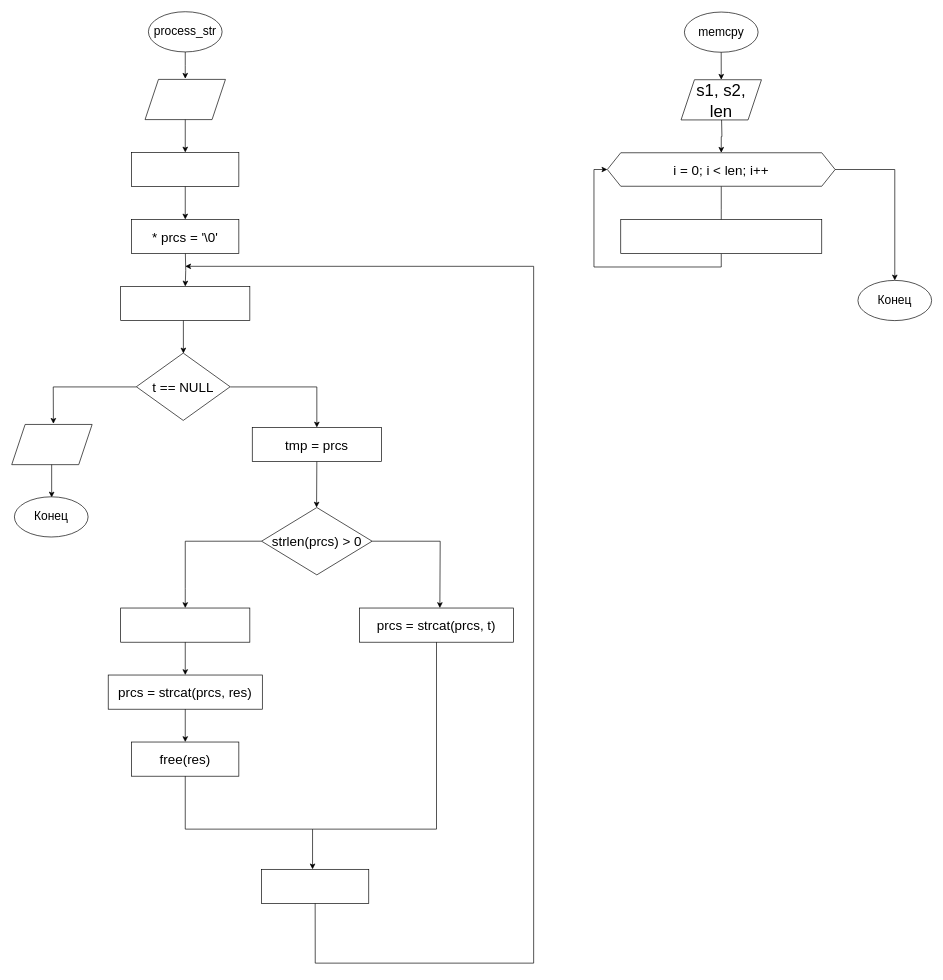
The diagram is 943 pixels wide and 980 high, and some of its shapes have lost their labels. The centre of each missing label's shape, as x and y in pixels:
free(tmp): the point at 315,886
prcs = malloc(1): the point at 185,169
res = strcat(" ", t): the point at 185,624
s1[i] = s2[i]: the point at 721,236
t = strtok(s, "\t "): the point at 185,303
Ввод s: the point at 184,99
Вывод prcs: the point at 51,444
